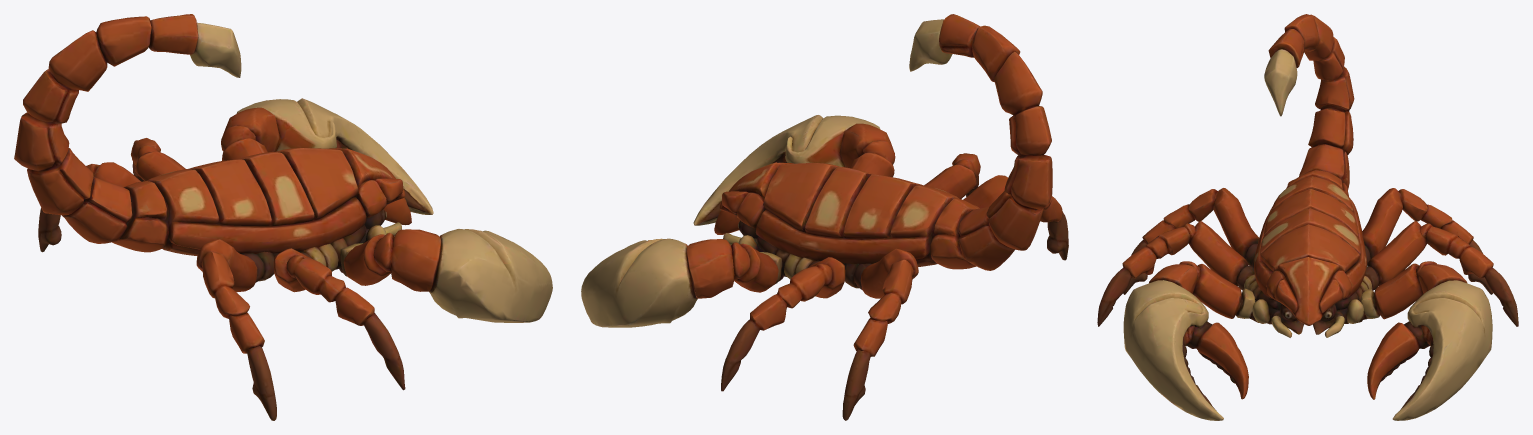
Rendered from scorpion.glb.
The picture shows the model from 3 angles, left to right: view 1: azimuth 30°, elevation 25°; view 2: azimuth 150°, elevation 25°; view 3: azimuth 270°, elevation 25°; orthographic projection. The views are drawn at different scales.
Visible parts, largest first — view 1: geometry_0; view 2: geometry_0; view 3: geometry_0.
Part boxes in pixels (box(x1,y1,x2,y2)): geometry_0: box(14, 14, 552, 420); geometry_0: box(581, 14, 1068, 420); geometry_0: box(1097, 14, 1518, 420).
Bounding box in the file's own units: 0.9817 × 0.6884 × 0.9987.
1 material, 1 textured.
